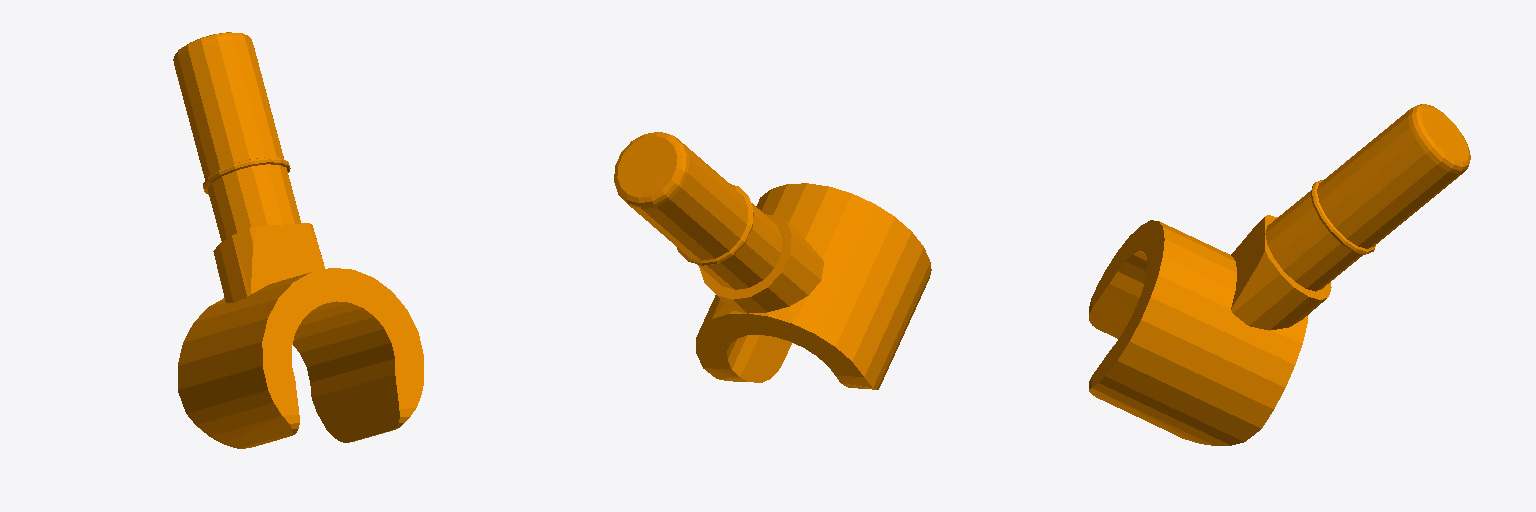
Rendered from right_hand.obj.
3 views of the same model, side by side, from view 1: azimuth 30°, elevation 25°; view 2: azimuth 150°, elevation 25°; view 3: azimuth 270°, elevation 25° (orthographic).
Parts seen in each view (by area): view 1: Part.1; view 2: Part.1; view 3: Part.1.
Boxes of the visible parts, <box> form: Part.1: <box>173,32,423,448</box>; Part.1: <box>614,132,931,389</box>; Part.1: <box>1089,104,1470,445</box>.
Size of the model in its own units: 5.32 by 9.54 by 10.08.